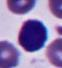L: (17, 18, 48, 52)
